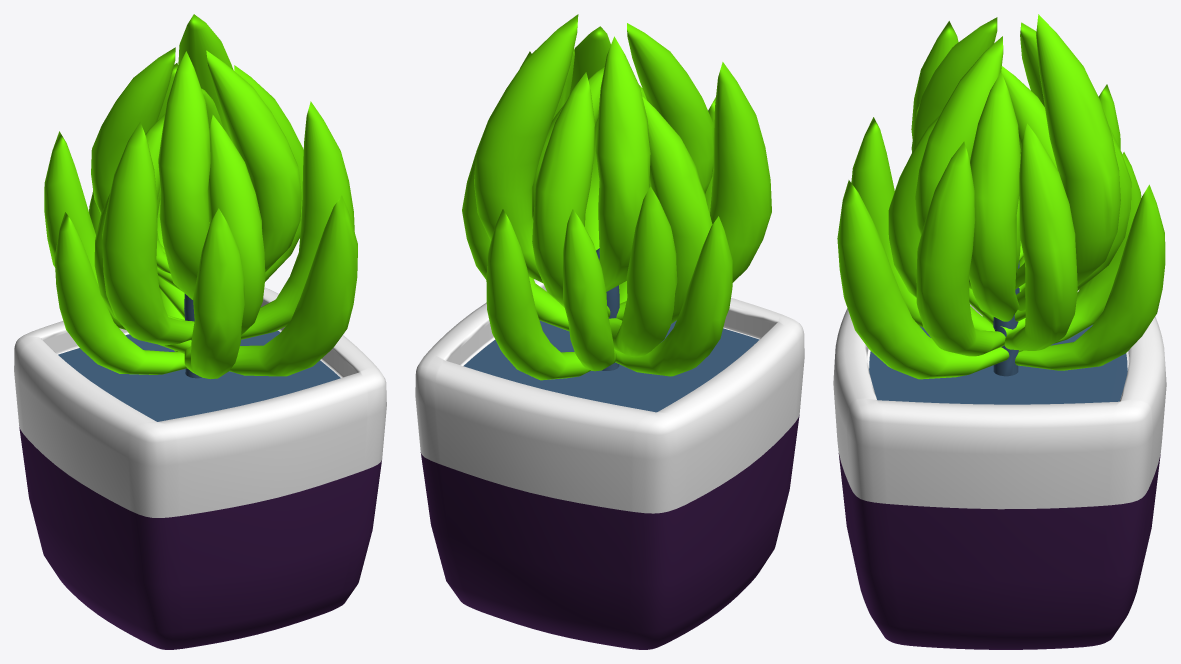
The model's file is ToyObject_178.fbx.
The picture shows the model from 3 angles, left to right: view 1: azimuth 30°, elevation 25°; view 2: azimuth 150°, elevation 25°; view 3: azimuth 270°, elevation 25°; orthographic projection. The views are drawn at different scales.
Parts seen in each view (by area): view 1: Object.025; view 2: Object.025; view 3: Object.025.
Boxes of the visible parts, left/top/right/bottom form: Object.025: left=14, top=14, right=386, bottom=649; Object.025: left=415, top=14, right=804, bottom=649; Object.025: left=833, top=14, right=1166, bottom=649.
Bounding box in the file's own units: 0.1029 × 0.2045 × 0.1035.
